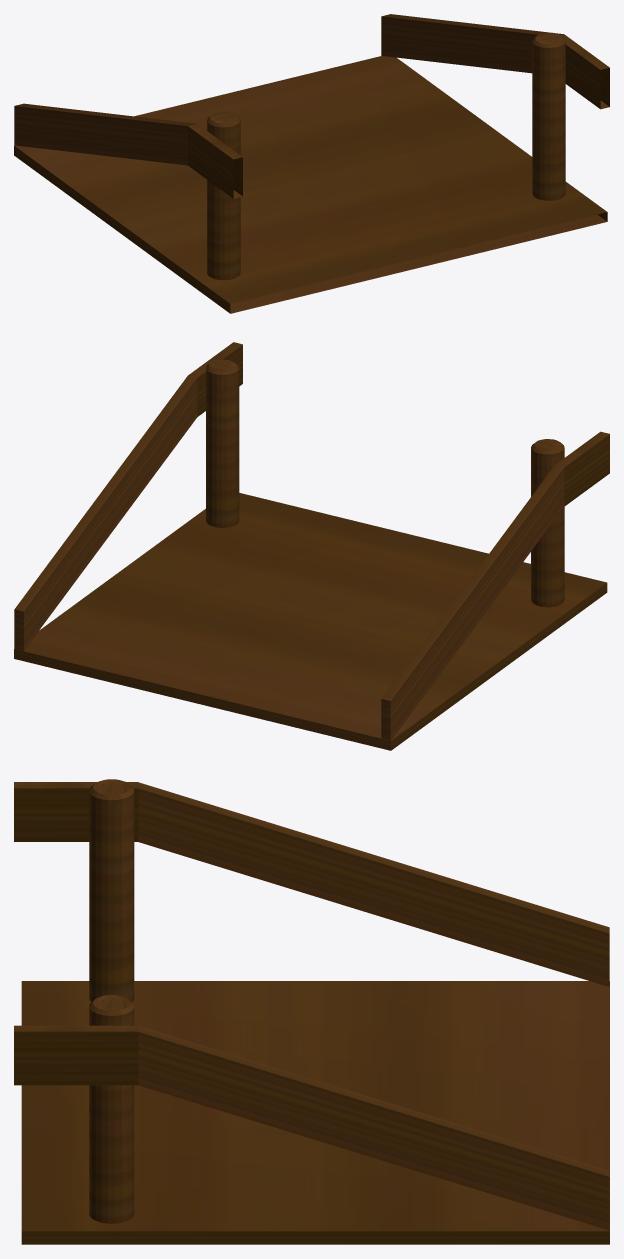
File: Bridge_PartA.FBX
3 renders of one model, top to bottom at view 1: azimuth 30°, elevation 25°; view 2: azimuth 150°, elevation 25°; view 3: azimuth 270°, elevation 25°, orthographic. The views are drawn at different scales.
Visible parts, largest first — view 1: LinkerDeel; view 2: LinkerDeel; view 3: LinkerDeel.
Part boxes in pixels (x1,y1,x2,y2): LinkerDeel: [14, 14, 609, 313]; LinkerDeel: [14, 342, 609, 750]; LinkerDeel: [14, 779, 609, 1244].
Size of the model in its own units: 1.97 by 0.8254 by 1.98.
Materials: 1 (1 with a texture image).
